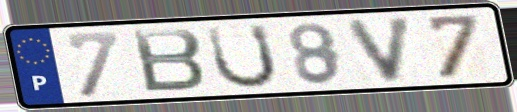7: (63, 28, 124, 99), (425, 12, 484, 82)
8: (285, 20, 343, 87)
B: (128, 26, 209, 95)
U: (204, 21, 282, 91)
V: (342, 14, 418, 85)
